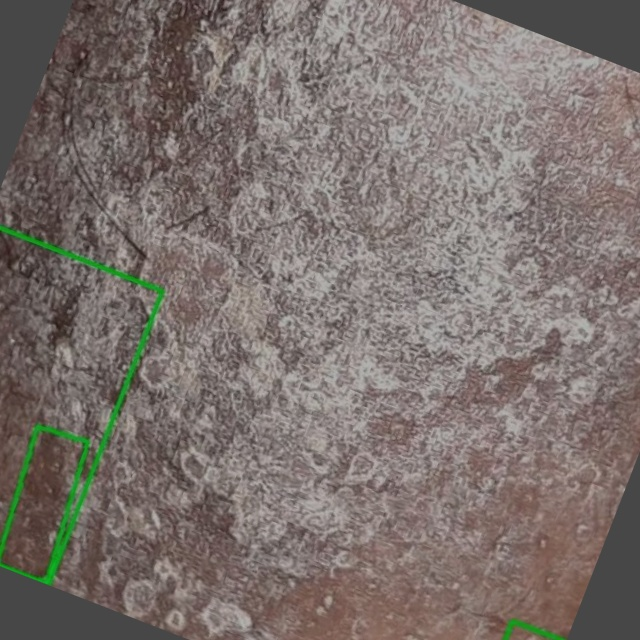Tinea Corporis: (0, 228, 162, 584), (0, 427, 88, 582)
